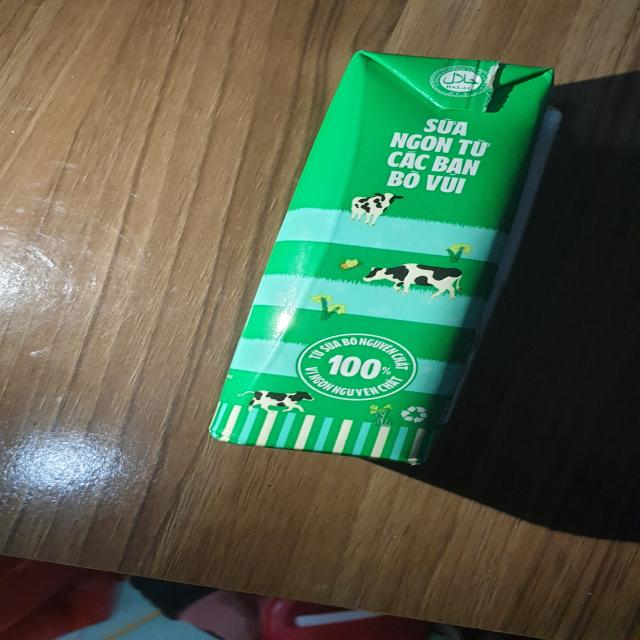Vina: (193, 42, 575, 475)
